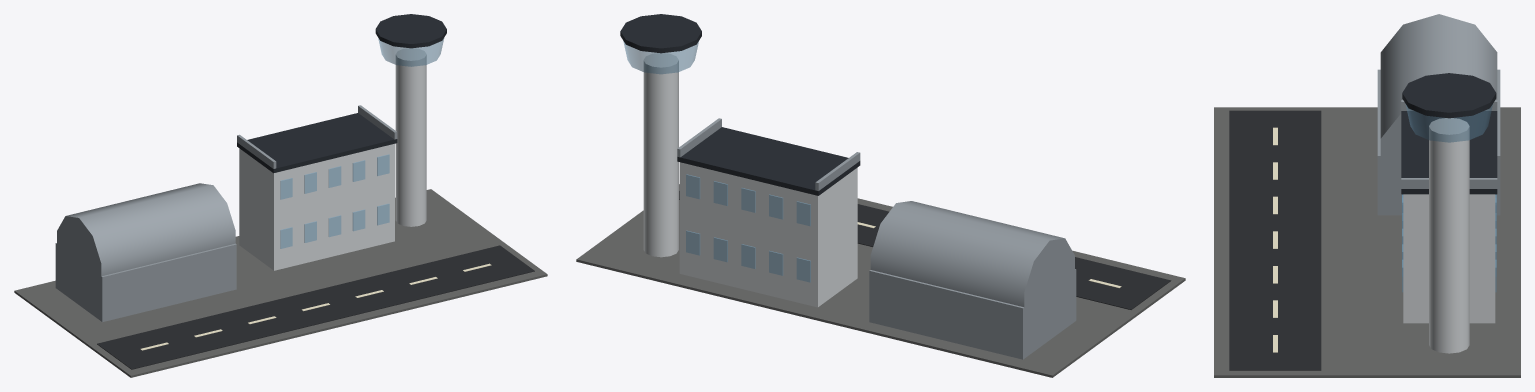
The model's file is bld_special_airport_a08.glb.
3 views of the same model, side by side, from view 1: azimuth 30°, elevation 25°; view 2: azimuth 150°, elevation 25°; view 3: azimuth 270°, elevation 25° (orthographic). The views are drawn at different scales.
Parts seen in each view (by area): view 1: body; view 2: body; view 3: body.
Part boxes in pixels (left/top/right/bottom): body: left=14, top=14, right=547, bottom=377; body: left=576, top=14, right=1185, bottom=377; body: left=1214, top=14, right=1520, bottom=377.
Size of what is drawn, in the model's own units: 31 by 13.75 by 15.
